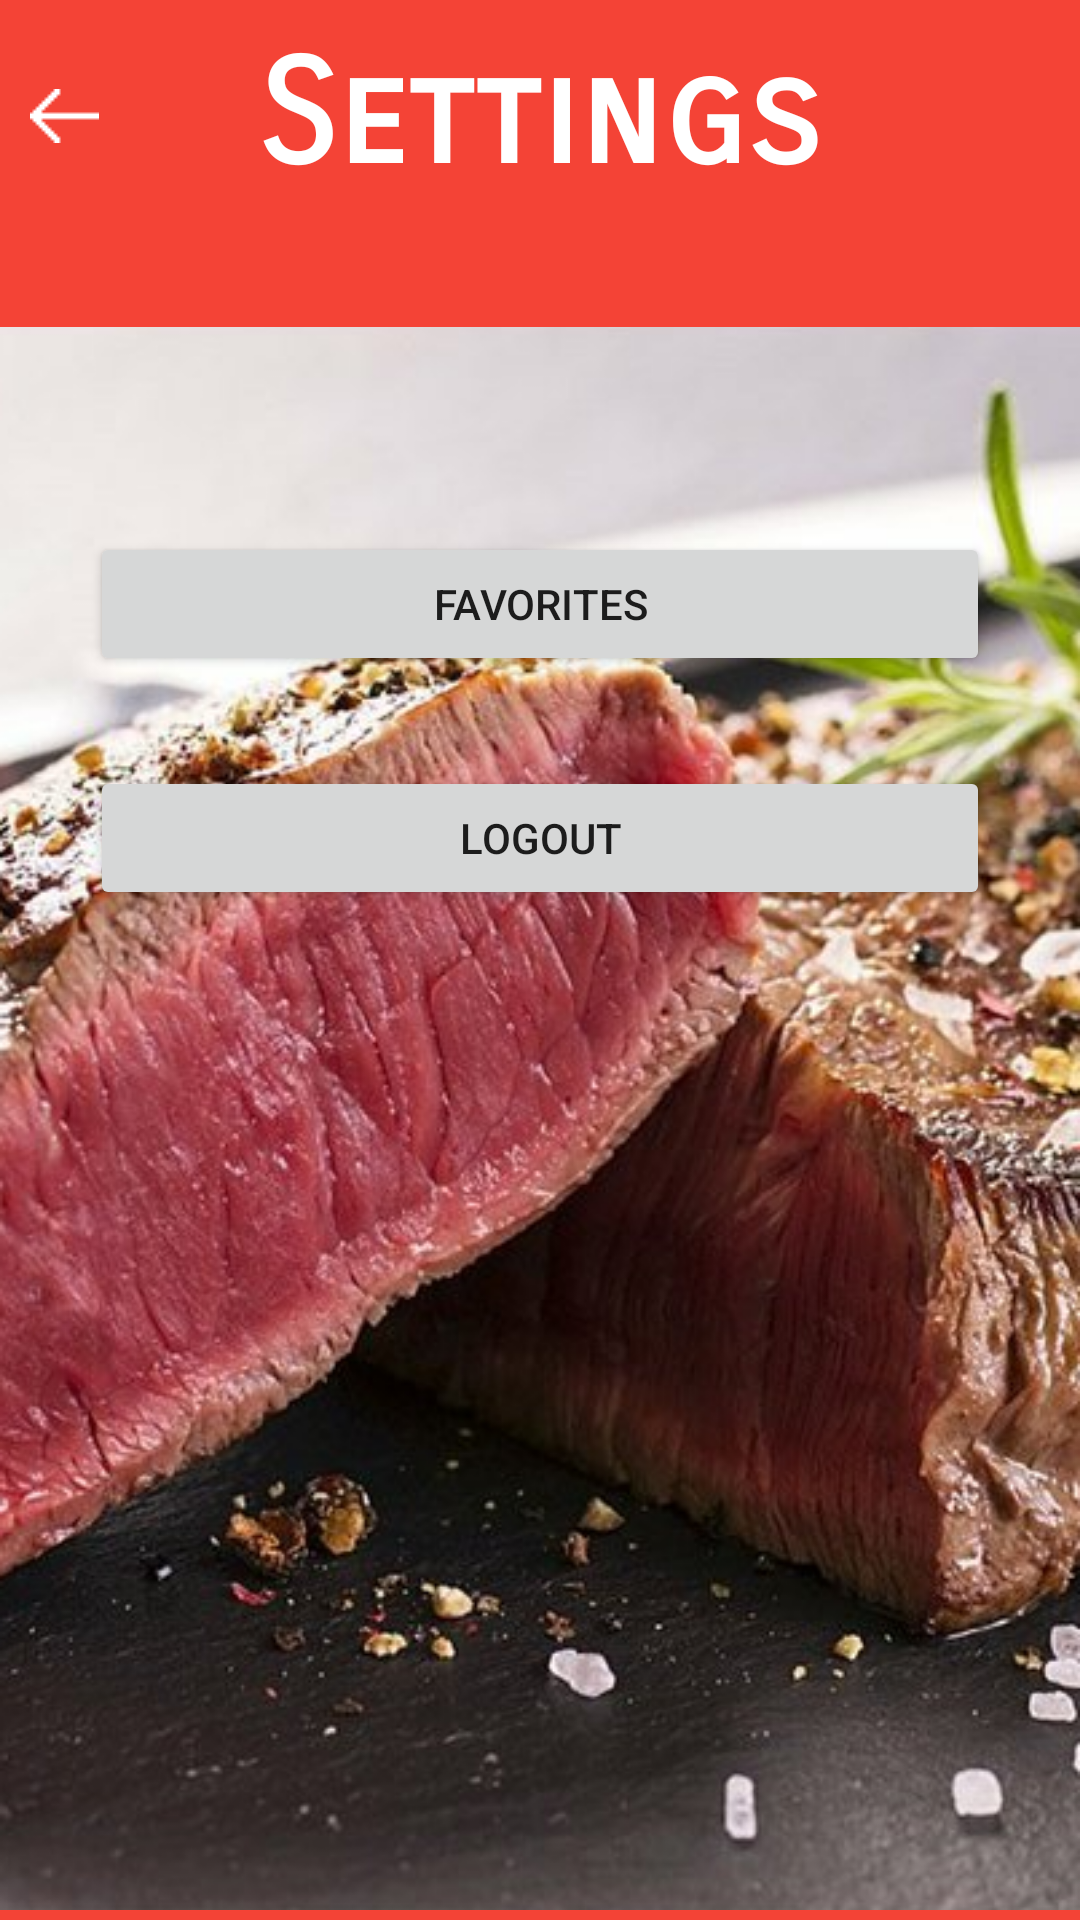

Where icons sit on this 1080 × 1920 app screen, as (x1, y1, x2, y2):
arrow: (30, 89, 99, 143)
